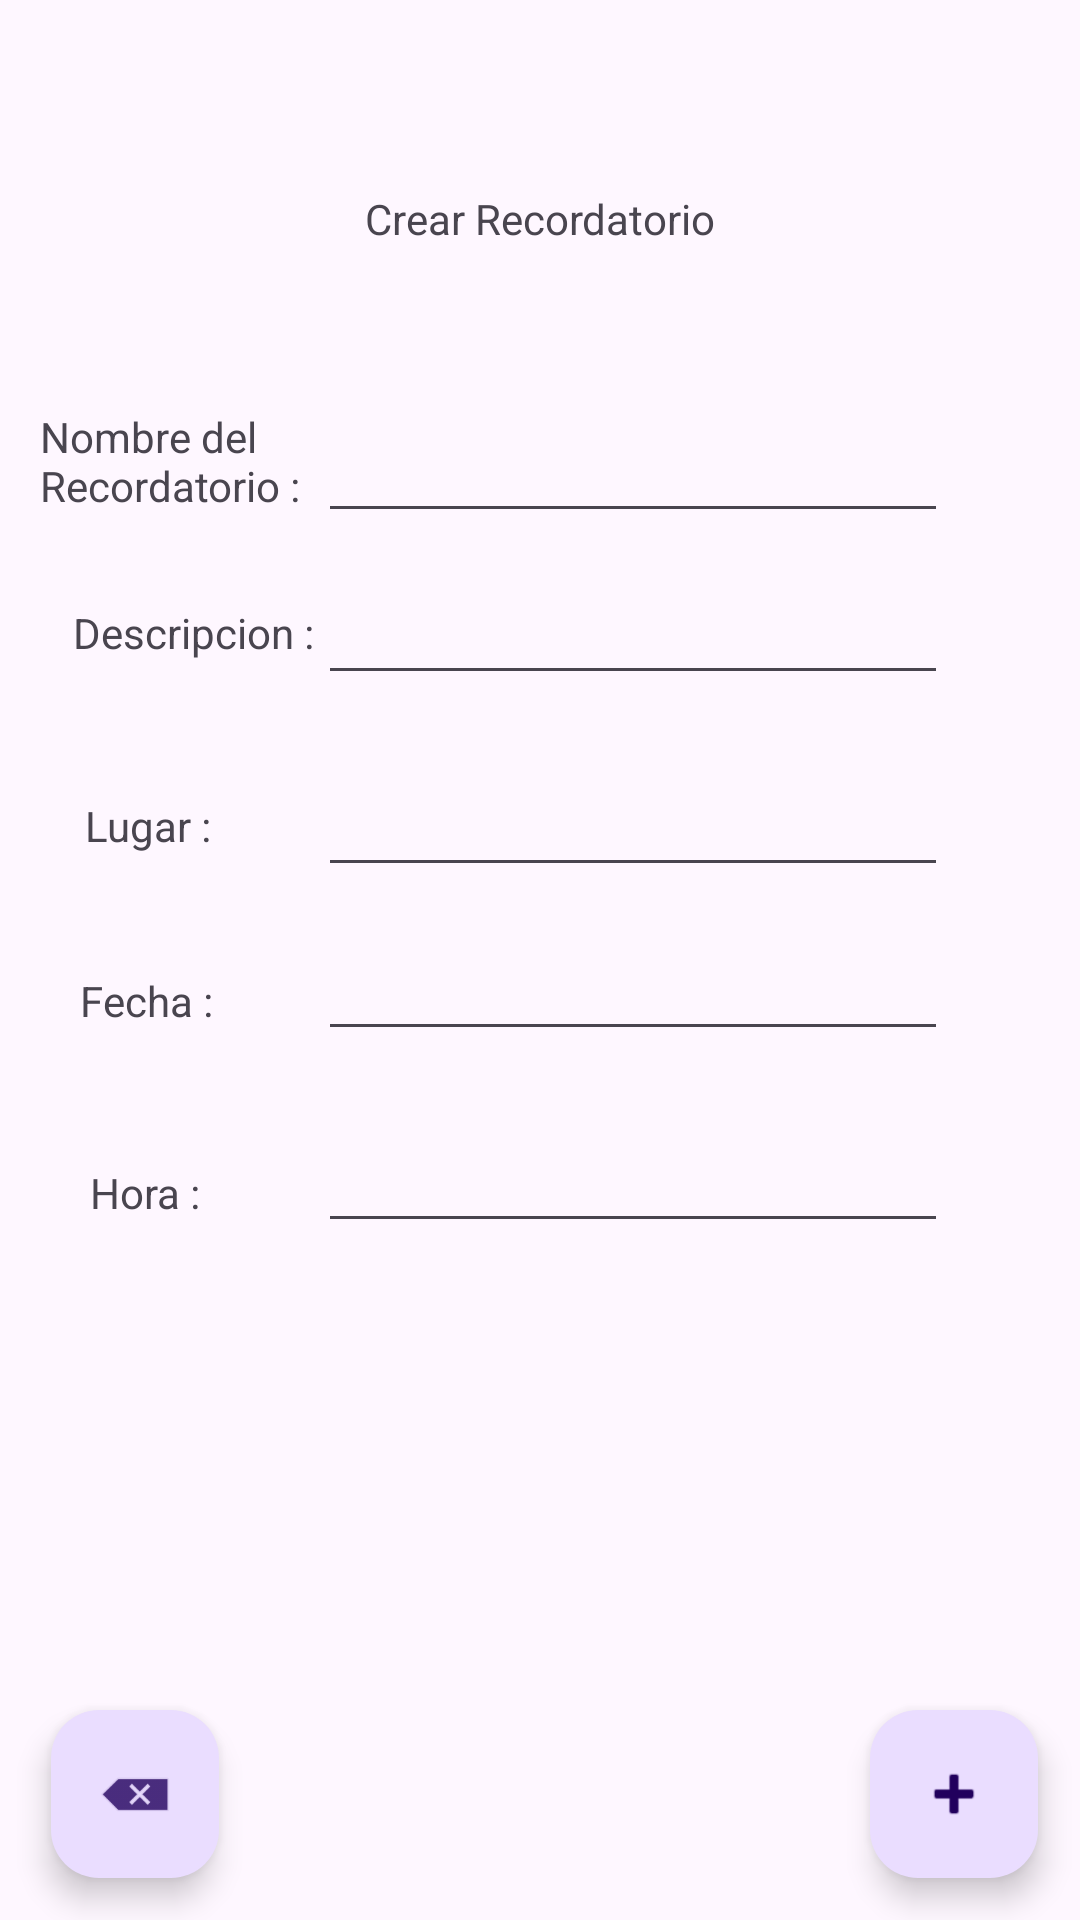

Icons on this 1080*1920 Android screen, each with the point to tap as (x,y):
add: (954,1794)
delete: (135,1794)
